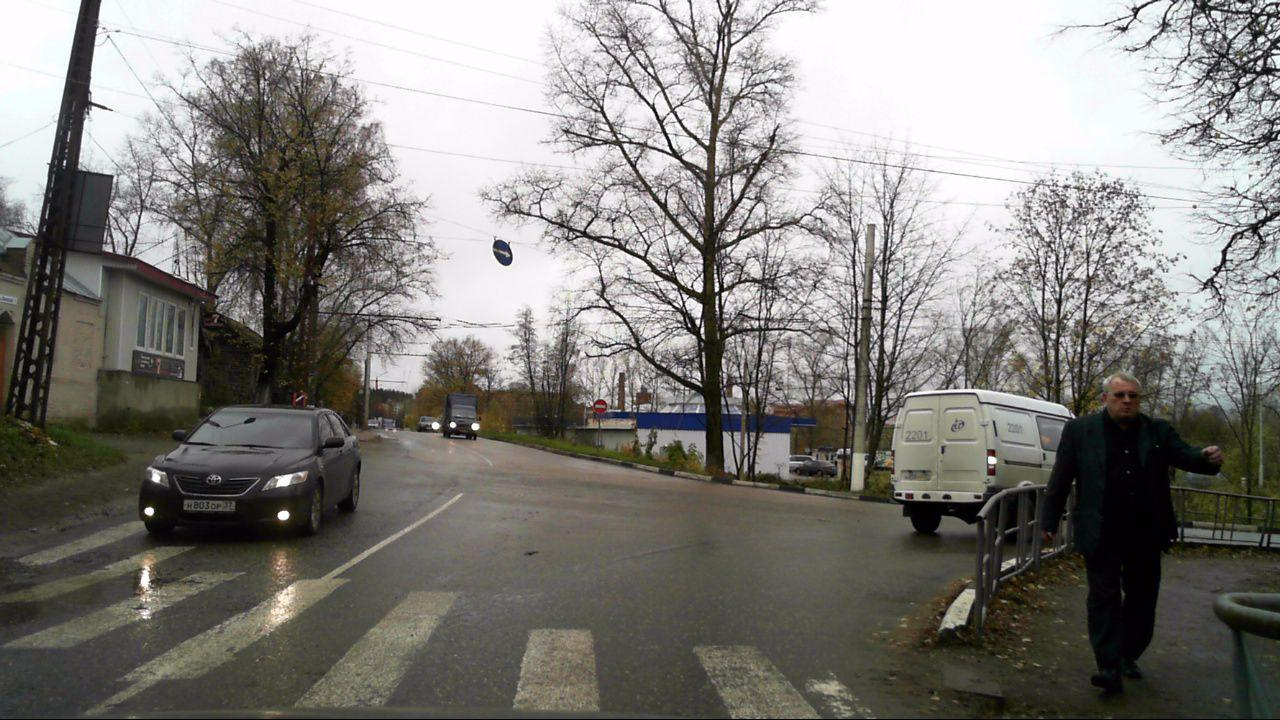road_sign: (492, 239, 513, 267), (592, 398, 608, 414)
